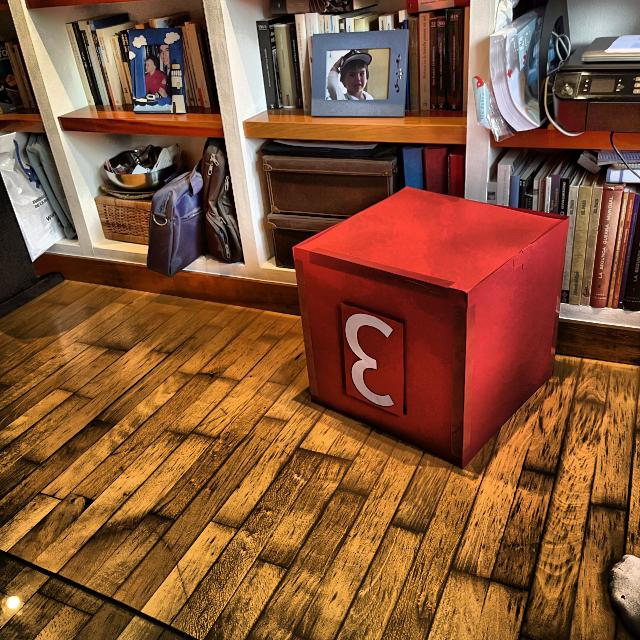red box: (298, 183, 564, 469)
three: (340, 311, 400, 410)
